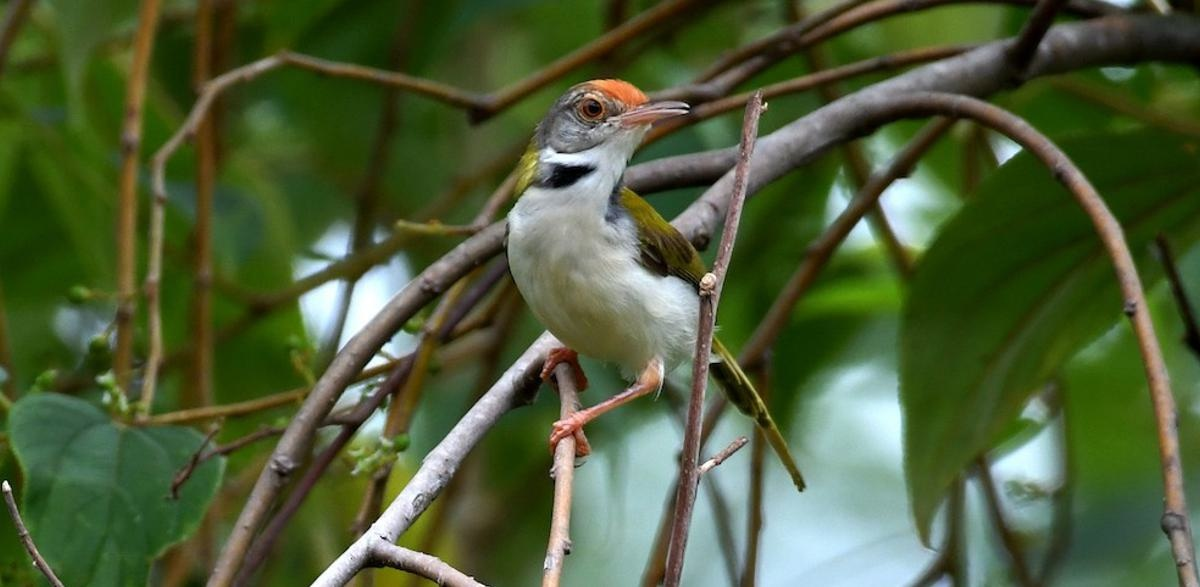tailorbird: (486, 48, 779, 460)
